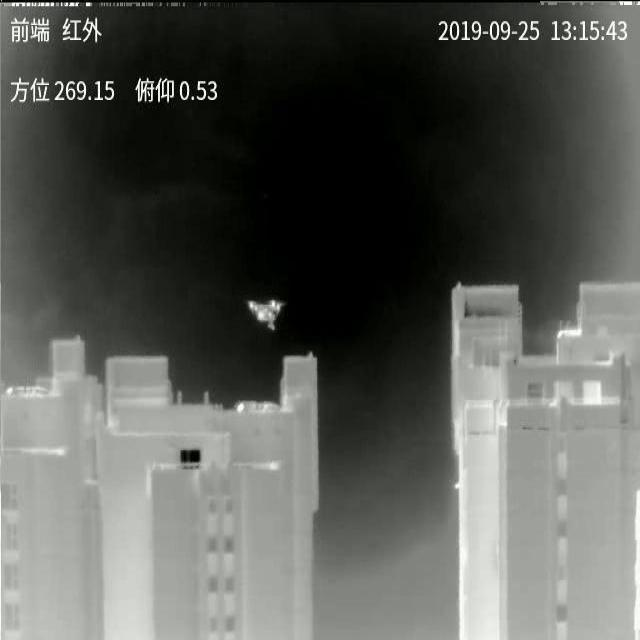drone: (247, 300, 285, 330)
